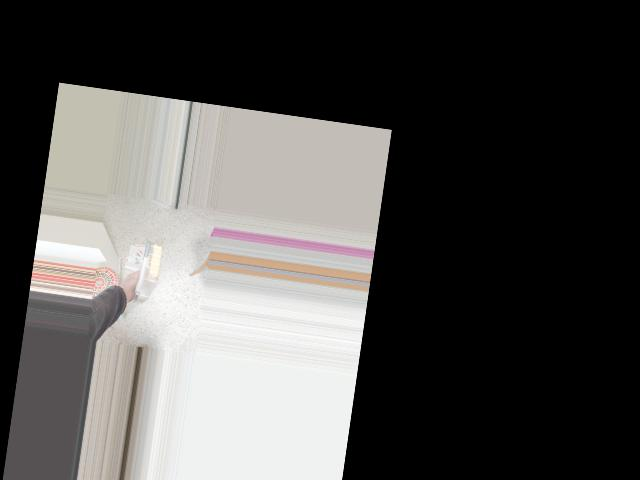cheese: (121, 237, 171, 302)
